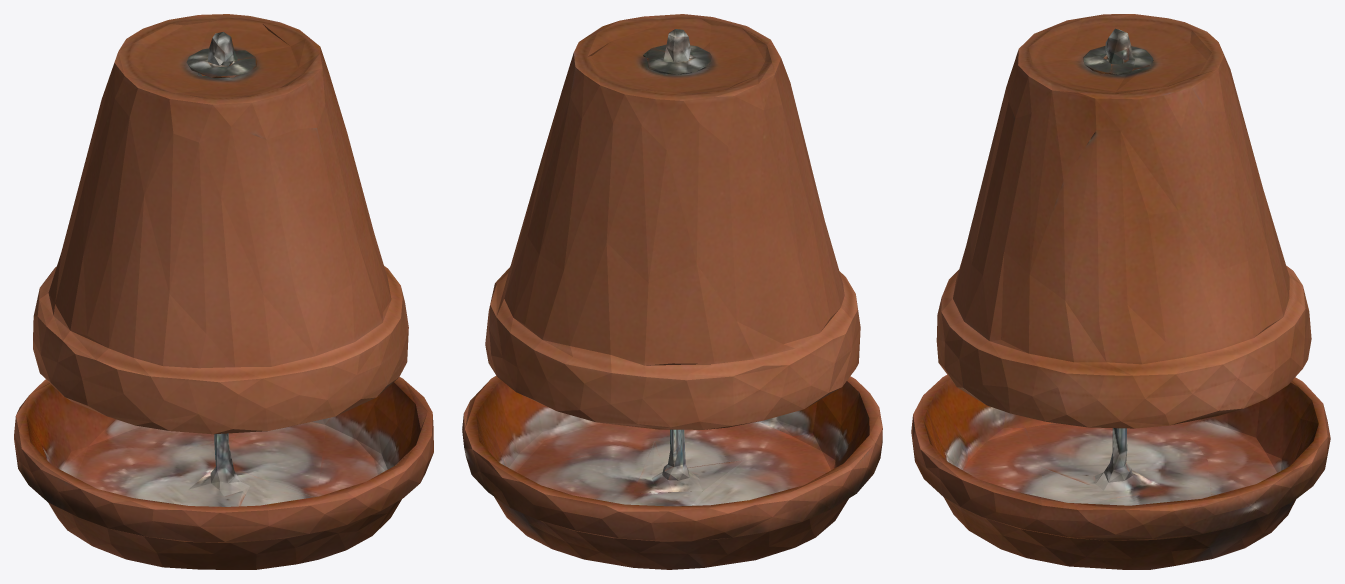
Rendered from 88981269-BEA8-0D4D-8E64-1DB7CB0B7F14_512.glb.
3 views of the same model, side by side, from view 1: azimuth 30°, elevation 25°; view 2: azimuth 150°, elevation 25°; view 3: azimuth 270°, elevation 25° (orthographic).
Visible parts, largest first — view 1: Teelichtofen_2k_0.5k; view 2: Teelichtofen_2k_0.5k; view 3: Teelichtofen_2k_0.5k.
Boxes of the visible parts, x1,y1,x2,y2 form: Teelichtofen_2k_0.5k: [14, 14, 433, 569]; Teelichtofen_2k_0.5k: [462, 14, 882, 569]; Teelichtofen_2k_0.5k: [911, 14, 1330, 569].
Bounding box in the file's own units: 0.1957 × 0.2459 × 0.1964.
Materials: 1 (1 with a texture image).
